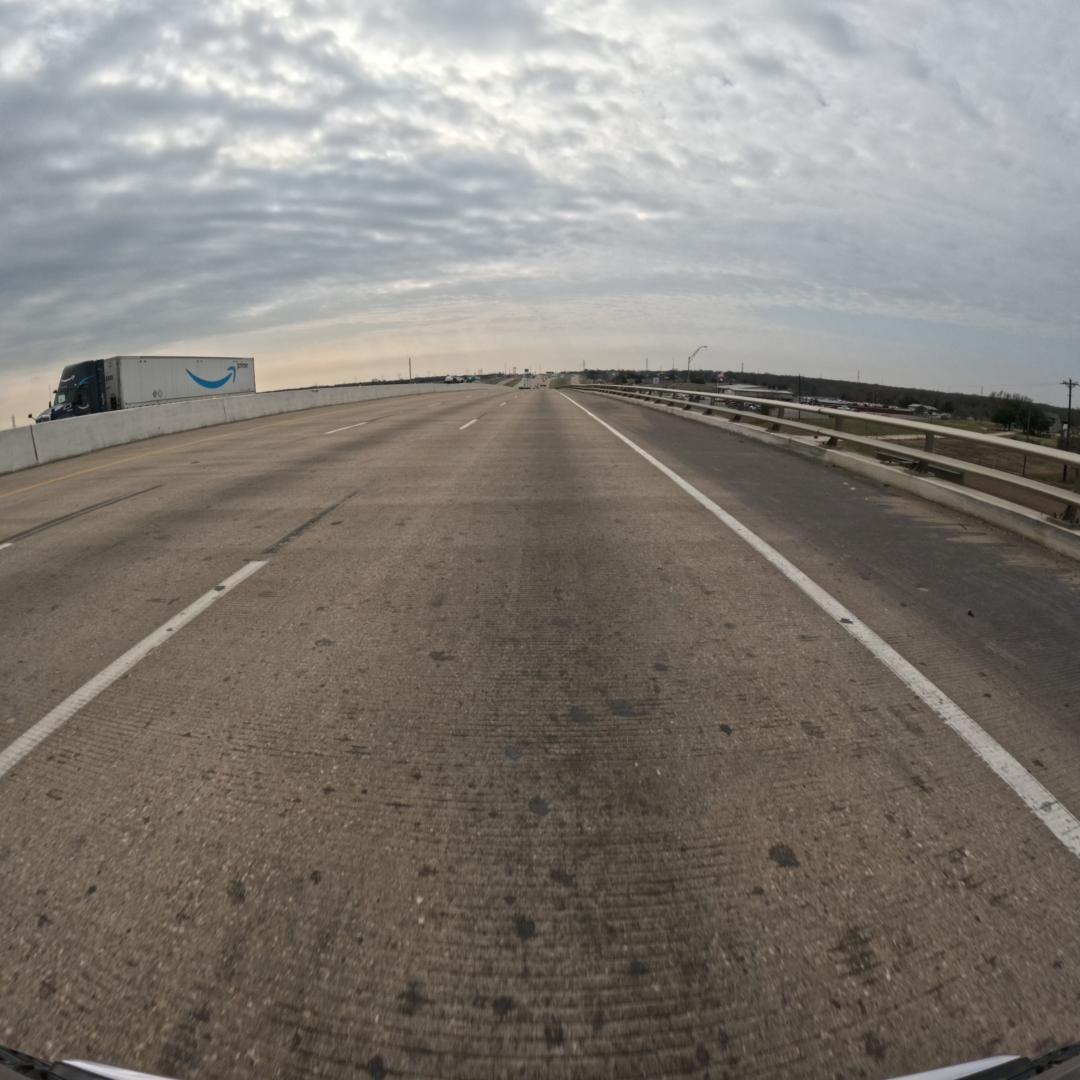lane0: (0, 397, 1080, 1080)
lane1: (0, 393, 505, 781)
